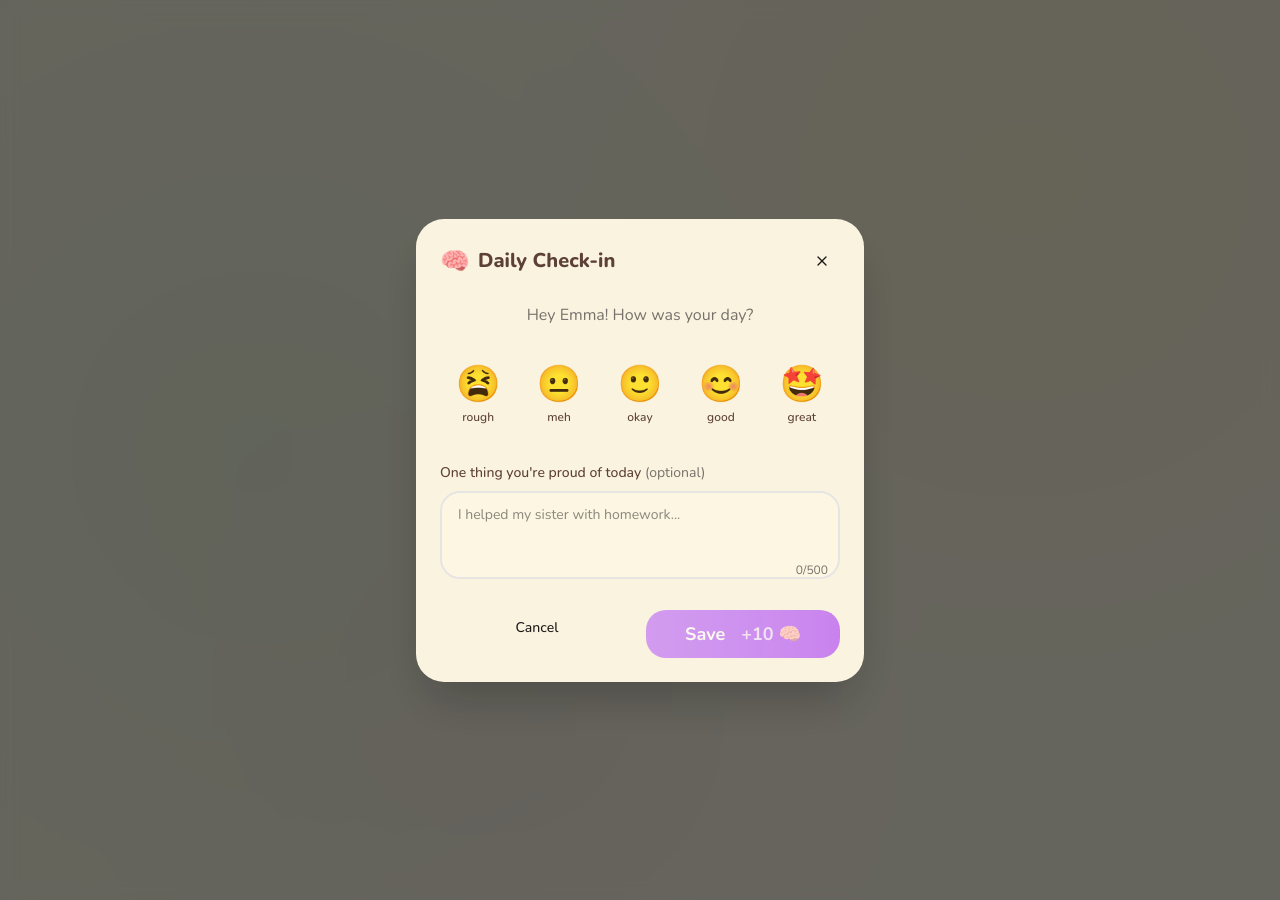
Test: DailyCheckIn › Form Submission › shows success animation after submit
The width and height of the screenshot is (1280, 900).
# Select mood and submit
Click the text "🙂" at (640, 384), box [618, 364, 662, 404]
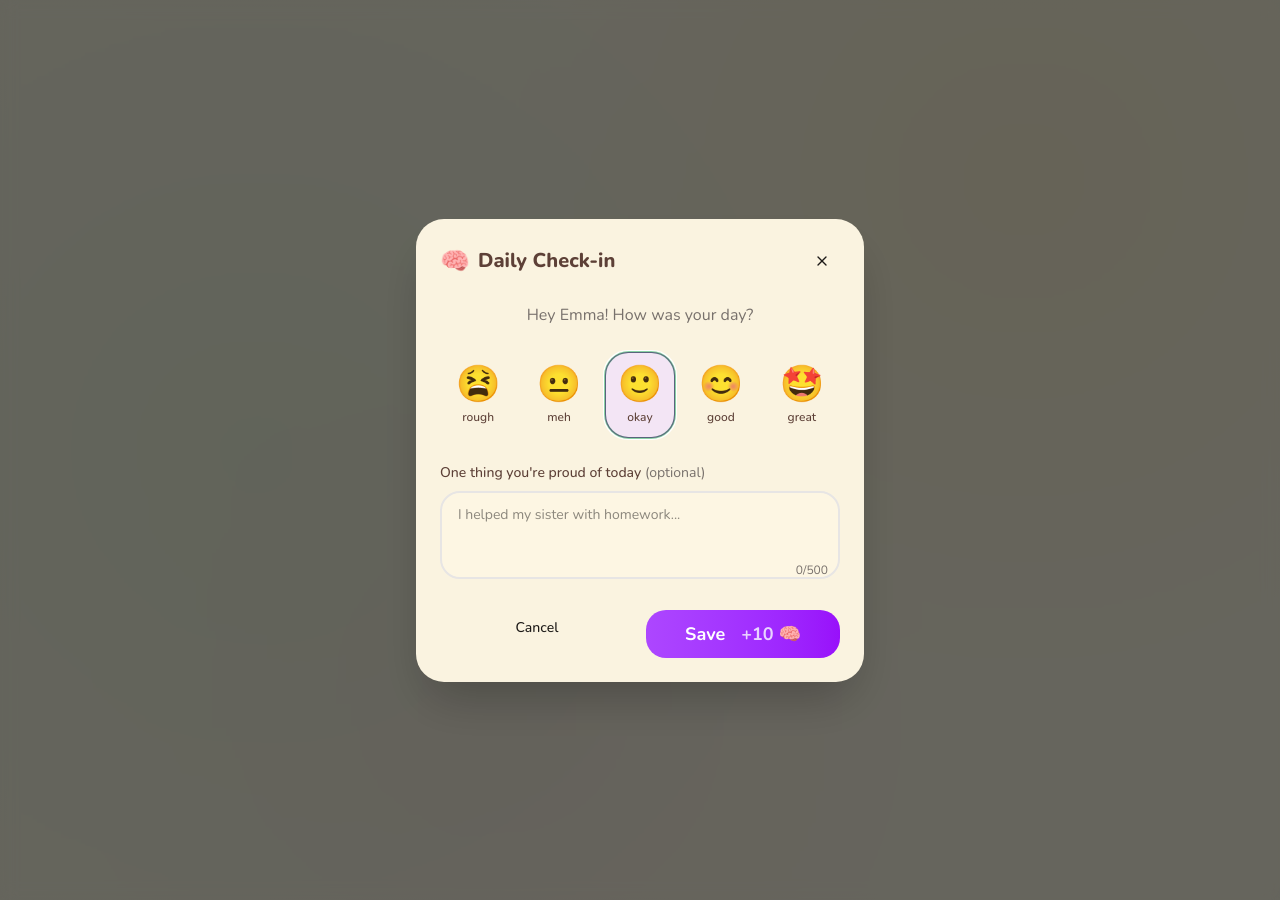
Click the button "Save +10 🧠" at (743, 634), box [646, 610, 840, 658]
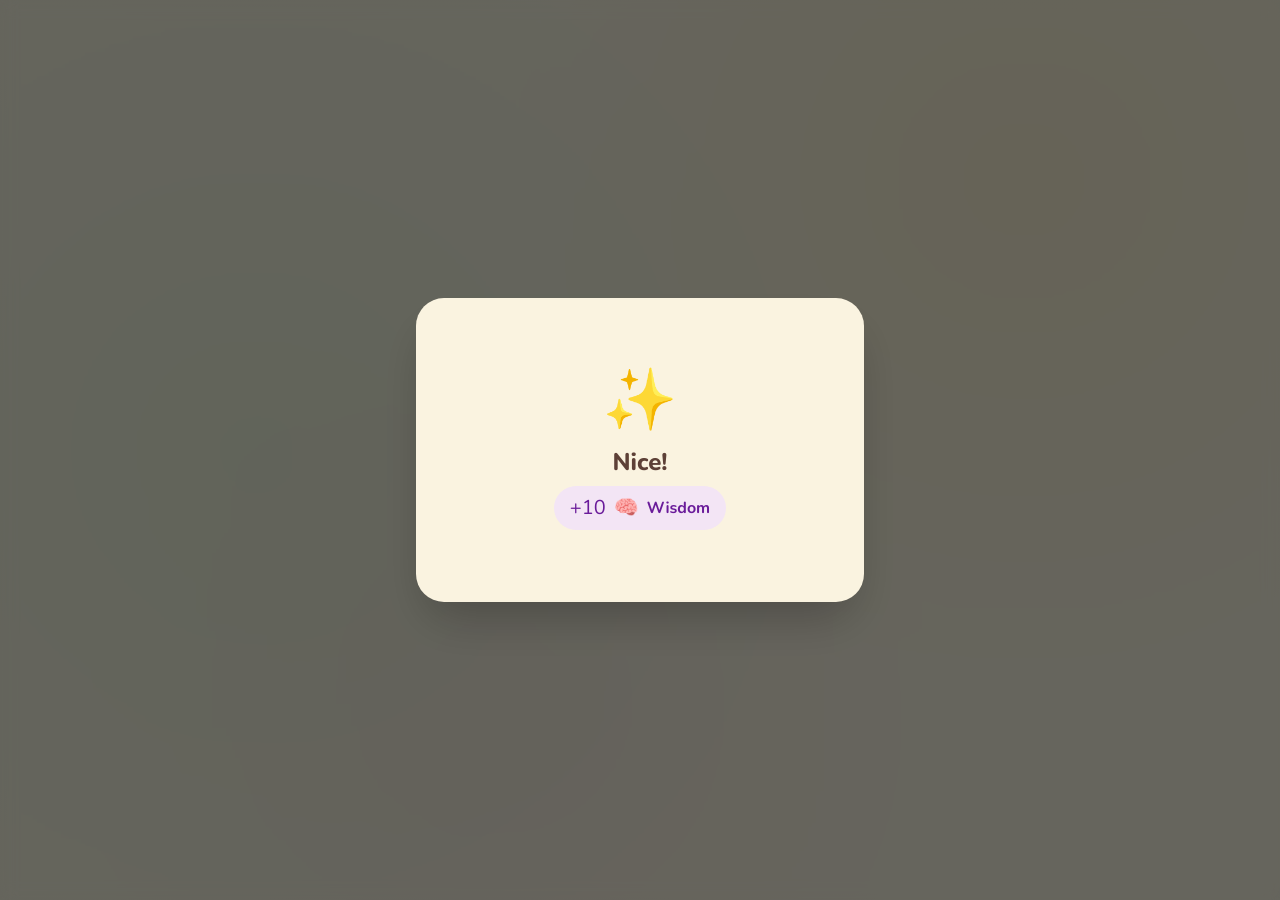
Expected: the text "+10" is shown, [570, 494, 606, 522]
Result: the heading "Nice!" is shown at [612, 446, 668, 478]
Result: the text "Wisdom" is shown at [647, 496, 710, 520]
